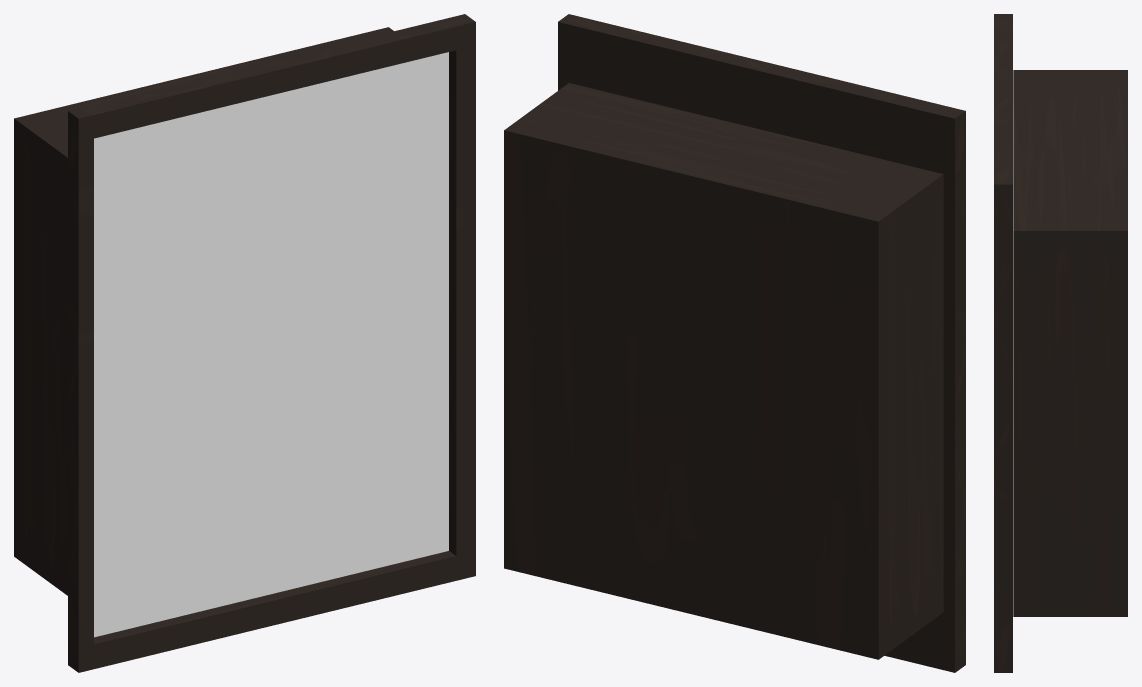
File: A_3D-MES.fbx
3 views of the same model, side by side, from view 1: azimuth 30°, elevation 25°; view 2: azimuth 150°, elevation 25°; view 3: azimuth 270°, elevation 25° (orthographic). The views are drawn at different scales.
Parts seen in each view (by area): view 1: pCube8, pCube7; view 2: pCube7, pCube8; view 3: pCube7, pCube8.
Boxes of the visible parts, bbox=[...] form: pCube8: bbox=[68, 14, 475, 672]; pCube7: bbox=[14, 27, 393, 595]; pCube7: bbox=[504, 83, 943, 659]; pCube8: bbox=[558, 14, 965, 672]; pCube7: bbox=[1013, 70, 1127, 616]; pCube8: bbox=[994, 14, 1012, 672].
Bounding box in the file's own units: 6 × 8 × 1.99.
